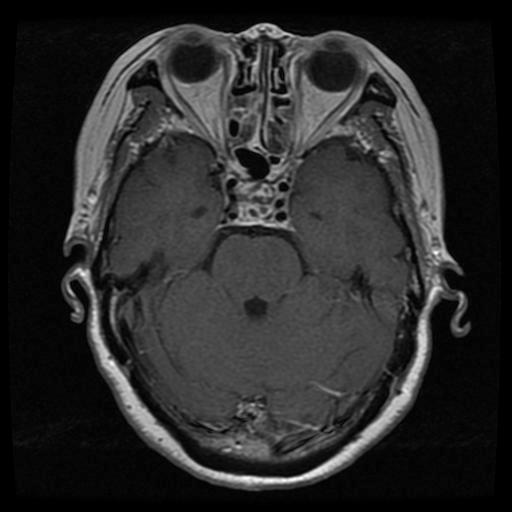Tumour-Pituitary: (216, 174, 299, 239)
